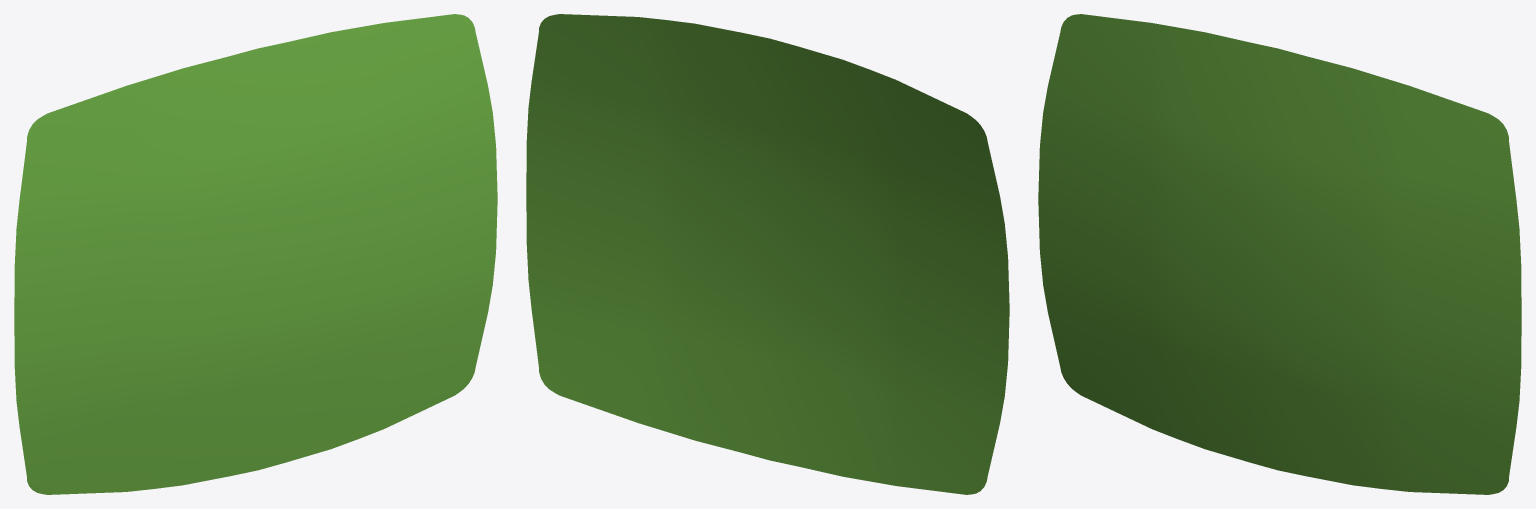
The model's file is TV_Screen.fbx.
3 views of the same model, side by side, from view 1: azimuth 30°, elevation 25°; view 2: azimuth 150°, elevation 25°; view 3: azimuth 330°, elevation 25° (orthographic).
Parts seen in each view (by area): view 1: TV_Screen; view 2: TV_Screen; view 3: TV_Screen.
Part boxes in pixels (x1=…): TV_Screen: x1=14, y1=14, x2=497, y2=494; TV_Screen: x1=526, y1=14, x2=1009, y2=494; TV_Screen: x1=1038, y1=14, x2=1521, y2=494.
Bounding box in the file's own units: 529 × 441 × 32.83.
